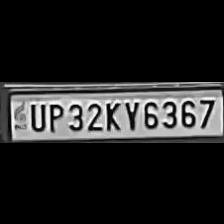2: (84, 99, 103, 129)
3: (65, 99, 83, 130), (160, 97, 176, 127)
6: (178, 96, 196, 128), (139, 97, 157, 128)
7: (197, 95, 214, 127)
K: (103, 98, 121, 130)
P: (45, 100, 63, 132)
U: (27, 100, 46, 130)
Y: (122, 98, 138, 130)
